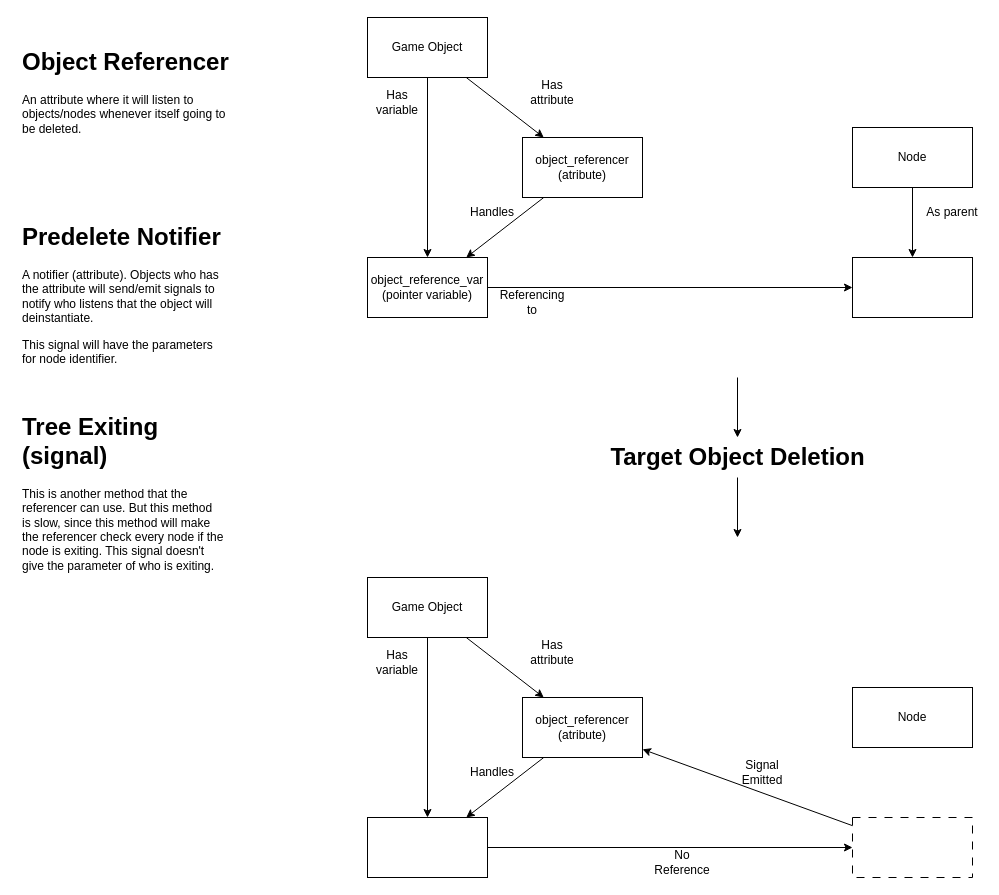
The diagram is 999 pixels wide and 895 high, and some of its shapes have lost their labels. Each missing label, with the centre of its shape:
object_reference_var (pointer variable) (NULL): the point at 427,847
Target object: the point at 912,287
Target Object (predeleting): the point at 912,847
